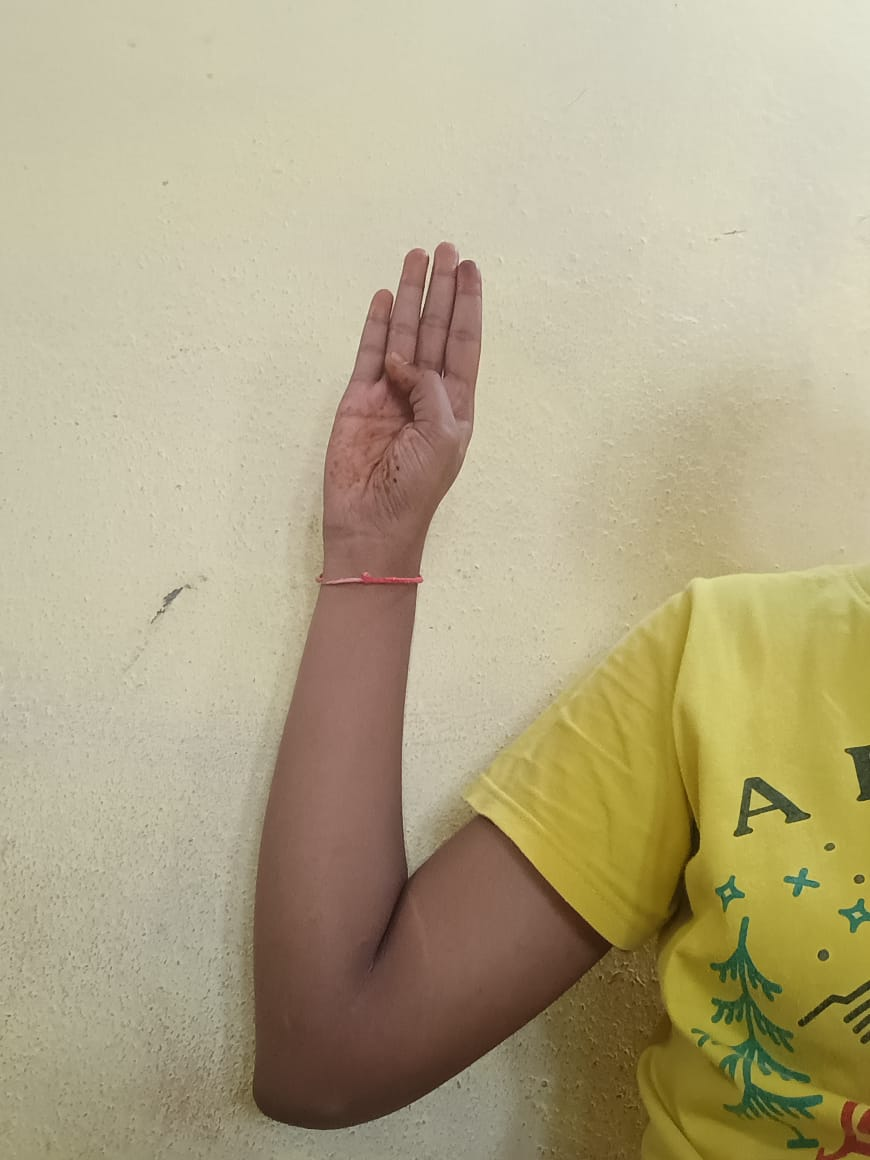B: (321, 242, 481, 547)
